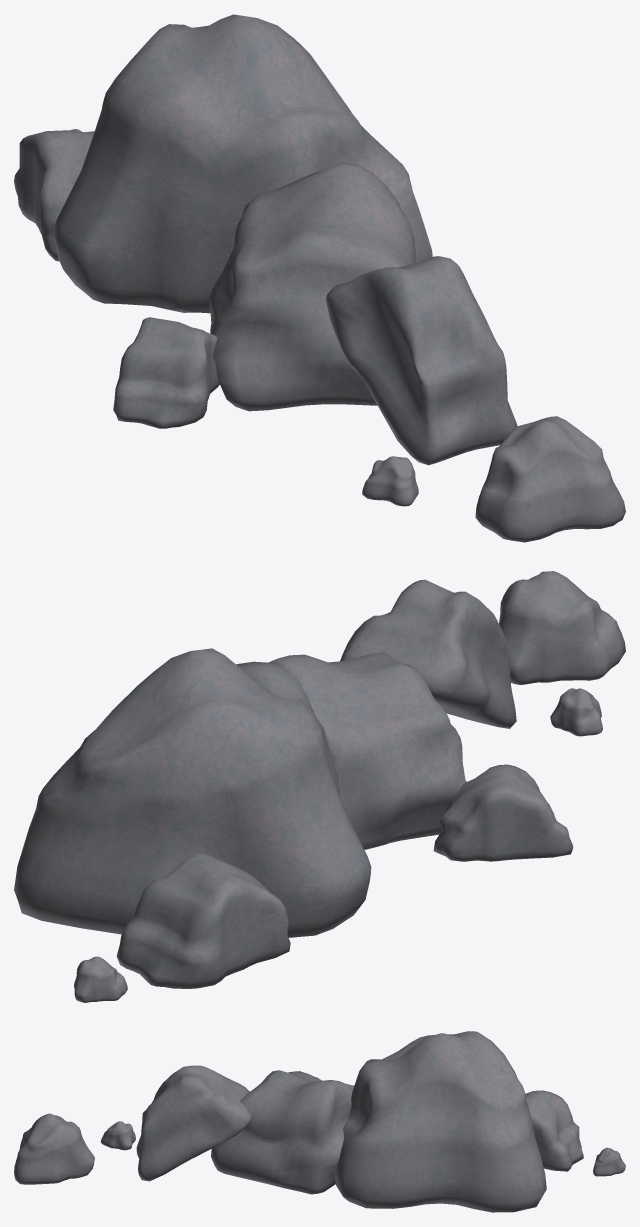
File: Rock_Pile_7.fbx
The picture shows the model from 3 angles, top to bottom: view 1: azimuth 30°, elevation 25°; view 2: azimuth 150°, elevation 25°; view 3: azimuth 270°, elevation 25°; orthographic projection. The views are drawn at different scales.
Visible parts, largest first — view 1: Rock_Pile_7; view 2: Rock_Pile_7; view 3: Rock_Pile_7.
Part boxes in pixels (x1,y1,x2,y2): Rock_Pile_7: (14, 14, 625, 542); Rock_Pile_7: (14, 571, 625, 1002); Rock_Pile_7: (14, 1031, 625, 1212).
Bounding box in the file's own units: 124 × 77.13 × 285.
